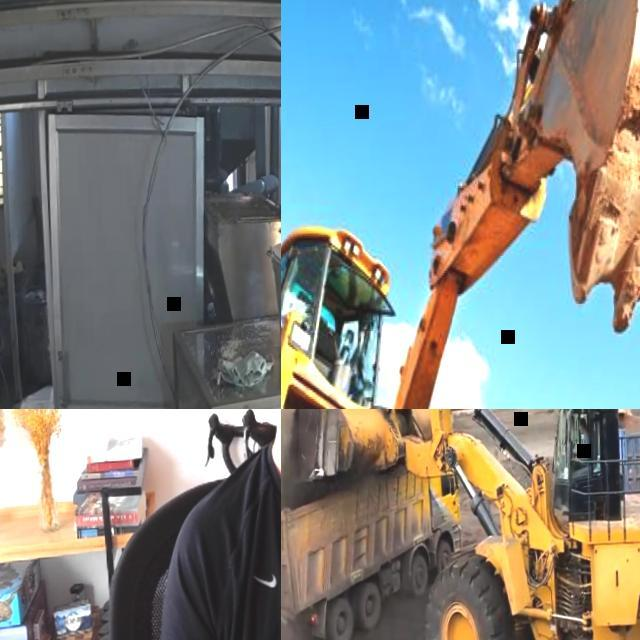machinery: (281, 0, 640, 409), (281, 409, 640, 640), (281, 423, 469, 640), (562, 409, 640, 506)
no_helmet: (580, 418, 588, 428)
no_mask: (580, 429, 584, 436)
no_vest: (200, 442, 281, 640), (580, 435, 590, 457)
person: (125, 409, 281, 640), (571, 416, 592, 468)
